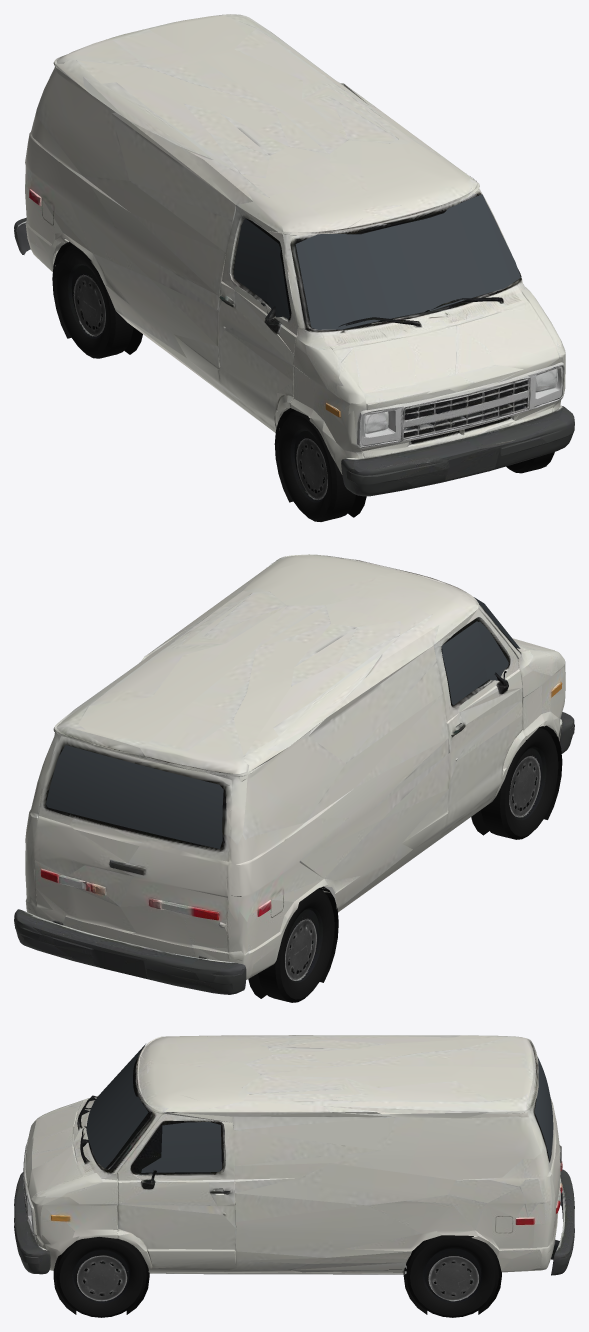
File: van.glb
3 renders of one model, top to bottom at view 1: azimuth 30°, elevation 25°; view 2: azimuth 150°, elevation 25°; view 3: azimuth 270°, elevation 25°, orthographic. The views are drawn at different scales.
Visible parts, largest first — view 1: body, glass, wheel_fr, wheel_rr; view 2: body, glass, wheel_fr, wheel_rr; view 3: body, glass, wheel_rl, wheel_fl.
Boxes of the visible parts, box(x1,y1,x2,y2) form: body: box(14, 14, 574, 517); glass: box(233, 194, 520, 329); wheel_fr: box(278, 410, 356, 521); wheel_rr: box(56, 244, 133, 358); body: box(14, 554, 574, 998); glass: box(46, 597, 520, 848); wheel_fr: box(480, 727, 558, 839); wheel_rr: box(258, 889, 334, 1002); body: box(14, 1035, 574, 1314); glass: box(86, 1044, 553, 1172); wheel_rl: box(406, 1235, 498, 1317); wheel_fl: box(56, 1237, 146, 1317).
Size of the model in its own units: 2.11 by 2.22 by 5.3.
Materials: 3 (2 with a texture image).
